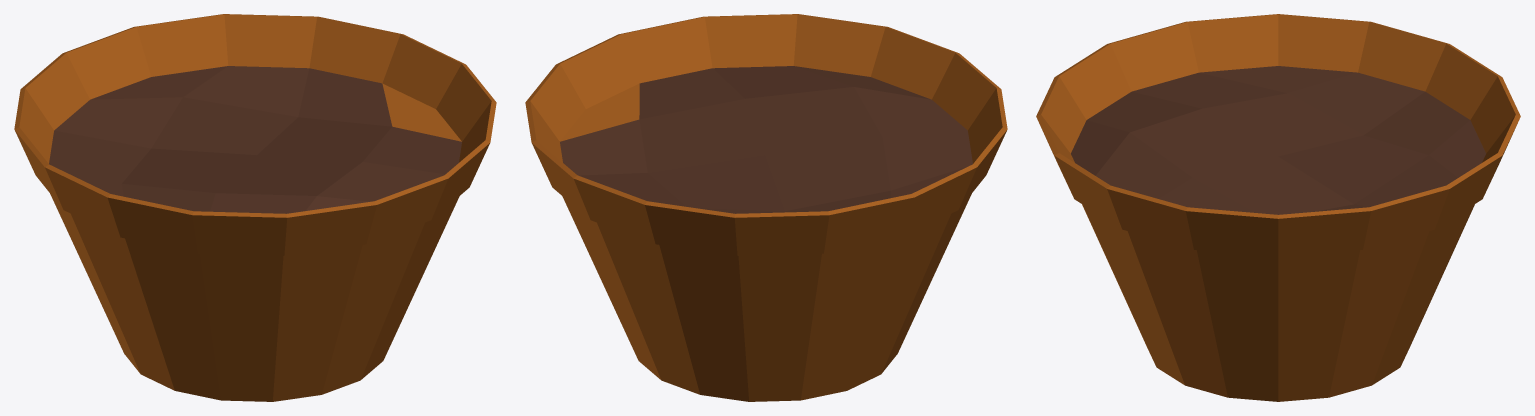
The model's file is flowerpot-color.fbx.
The picture shows the model from 3 angles, left to right: view 1: azimuth 30°, elevation 25°; view 2: azimuth 150°, elevation 25°; view 3: azimuth 270°, elevation 25°; orthographic projection.
Visible parts, largest first — view 1: Cylinder; view 2: Cylinder; view 3: Cylinder.
Part boxes in pixels (left/top/right/bottom): Cylinder: left=14, top=14, right=496, bottom=401; Cylinder: left=525, top=14, right=1007, bottom=401; Cylinder: left=1036, top=14, right=1520, bottom=401.
Bounding box in the file's own units: 239 × 126 × 239.
